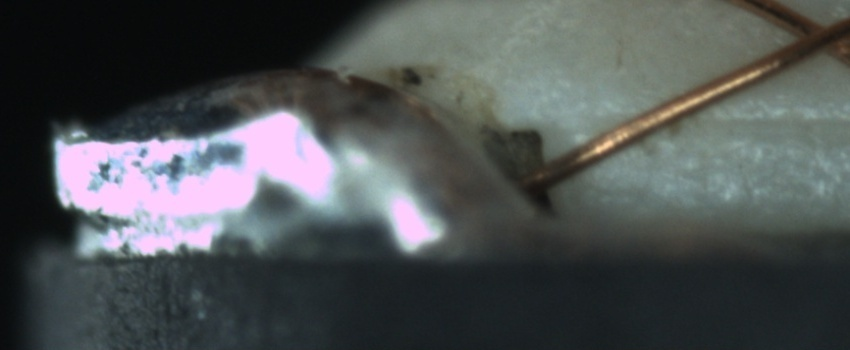CL: (773, 3, 848, 65)
DL: (617, 87, 847, 157)
